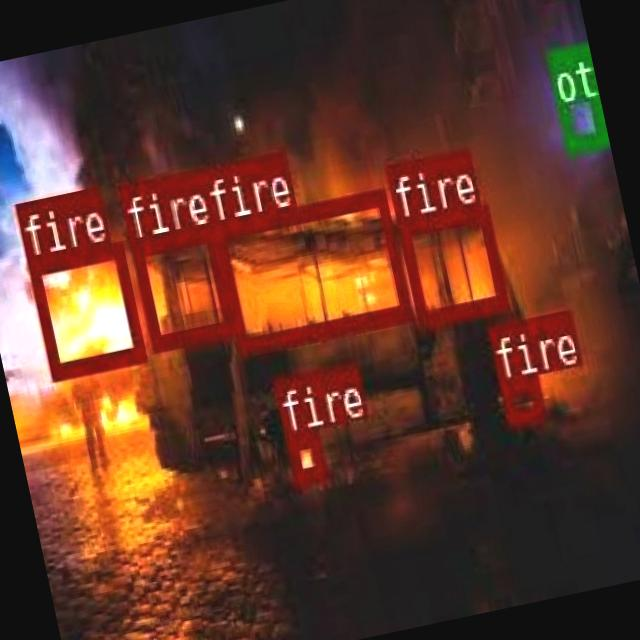fire: (210, 187, 409, 352), (26, 240, 144, 377), (394, 202, 508, 326), (127, 220, 234, 348), (282, 427, 325, 484), (497, 372, 544, 422)
